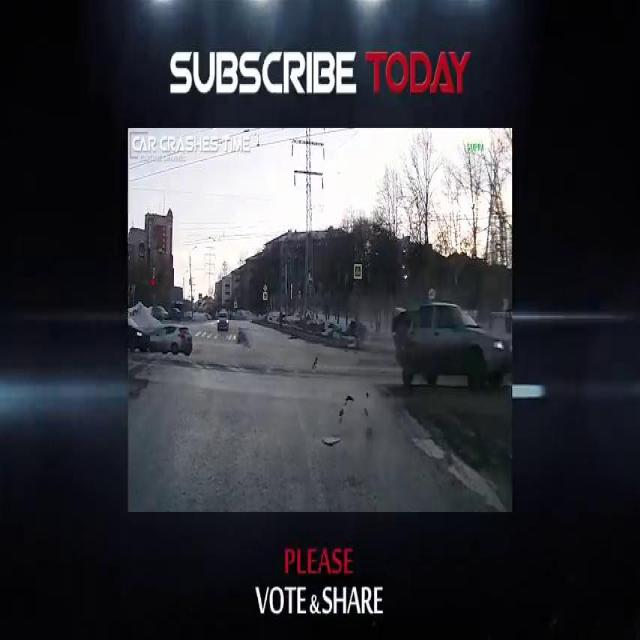moderate: (126, 315, 196, 360)
